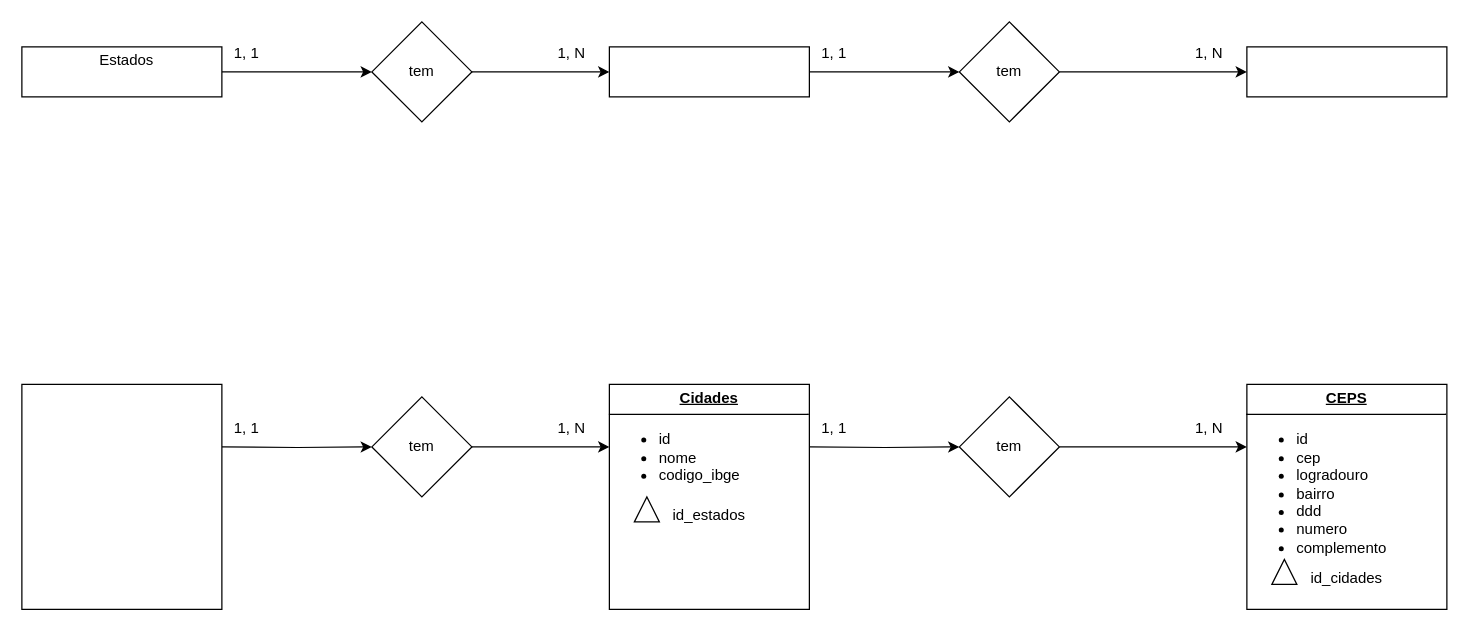
This 1469x631 diagram has some shape labels left out. The shapes that lost their labels are listed below. From the top down, each one's centre as x and y in pixels, then its label:
At (708,71): "Cidades".
At (1346,71): "CEPS".
At (121,496): "Estados id nome uf regiao codigo_ibge".
